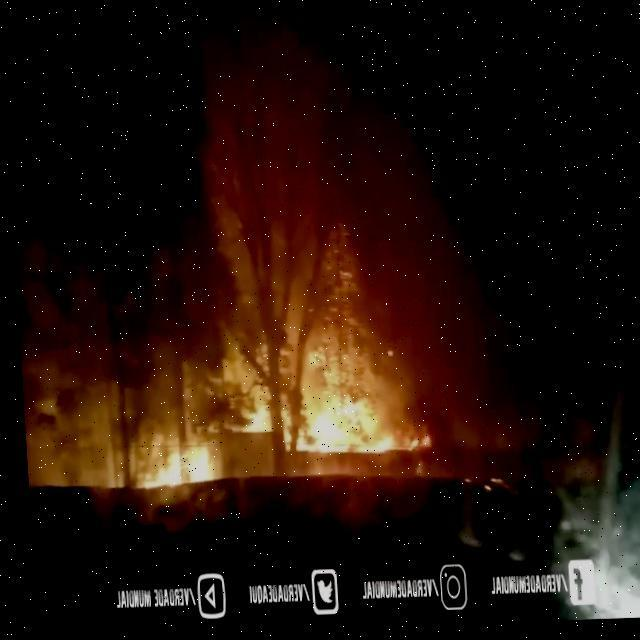Fire: (272, 320, 430, 461), (132, 439, 210, 487), (225, 375, 268, 434)
